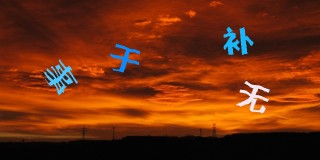事: (43, 58, 77, 96)
于: (109, 42, 141, 73)
无: (237, 80, 269, 113)
补: (223, 26, 254, 55)
